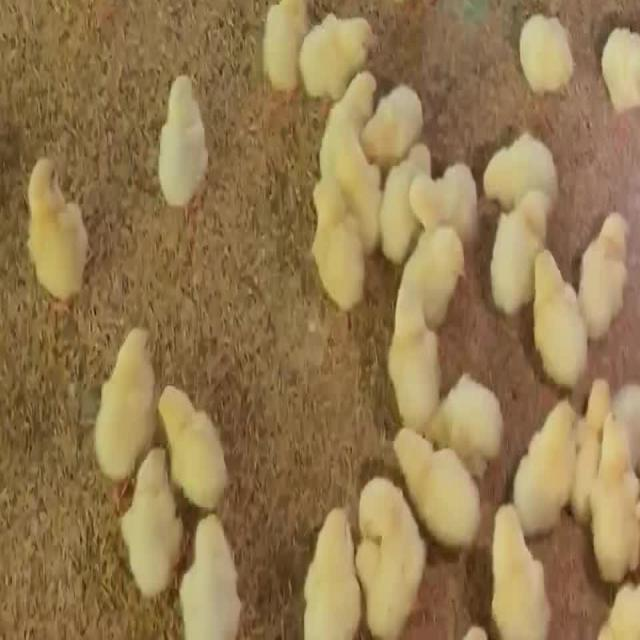poussin: (19, 148, 94, 318), (398, 432, 486, 564), (77, 341, 152, 494), (357, 474, 422, 628), (156, 382, 236, 502), (294, 500, 362, 640), (510, 388, 581, 521), (487, 498, 550, 640), (490, 184, 560, 310), (588, 417, 640, 582), (182, 507, 246, 640), (120, 452, 180, 592), (417, 372, 508, 460), (576, 198, 636, 331), (382, 279, 438, 421), (530, 249, 588, 386), (152, 71, 206, 213), (294, 8, 384, 91), (304, 182, 362, 302), (244, 0, 302, 118), (396, 228, 470, 320), (480, 126, 566, 200), (310, 126, 384, 208), (378, 144, 430, 258), (572, 379, 616, 511), (514, 14, 582, 91), (362, 76, 421, 164), (416, 158, 474, 234), (600, 12, 640, 119), (327, 65, 382, 124)
